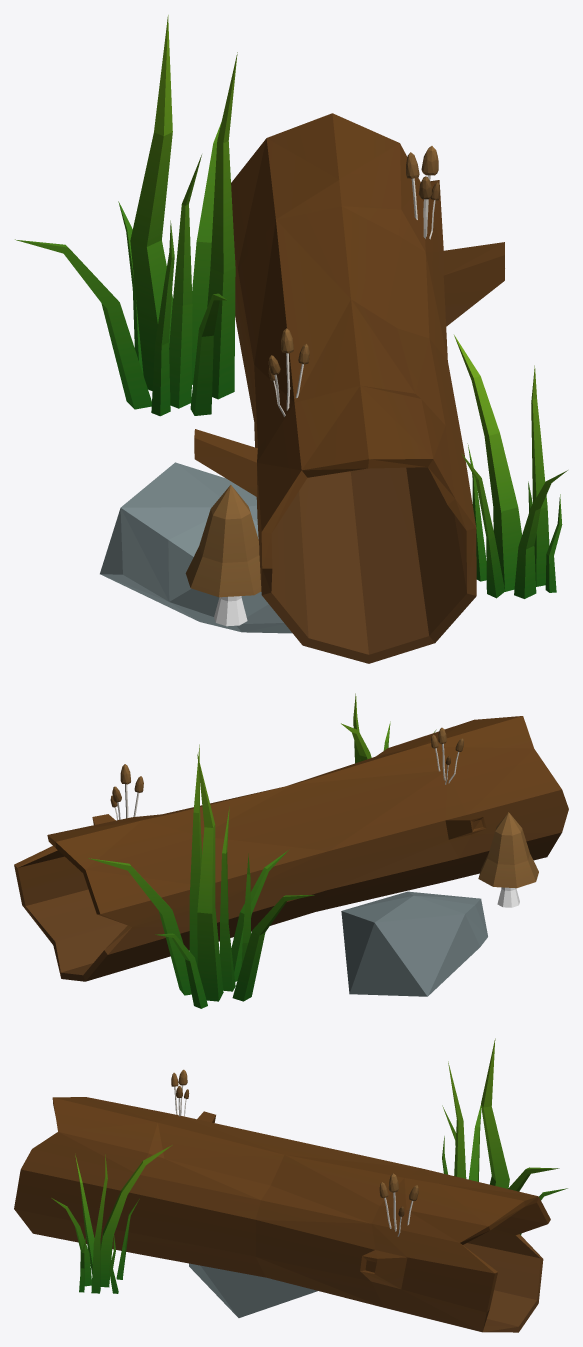
Rendered from Log_03.fbx.
The picture shows the model from 3 angles, top to bottom: view 1: azimuth 30°, elevation 25°; view 2: azimuth 150°, elevation 25°; view 3: azimuth 270°, elevation 25°; orthographic projection. The views are drawn at different scales.
Visible parts, largest first — view 1: Log_03; view 2: Log_03; view 3: Log_03.
Boxes of the visible parts, left/top/right/bottom form: Log_03: left=15, top=15, right=567, bottom=663; Log_03: left=14, top=693, right=568, bottom=1008; Log_03: left=14, top=1038, right=567, bottom=1332.
Size of the model in its own units: 86.43 by 74.6 by 126.
